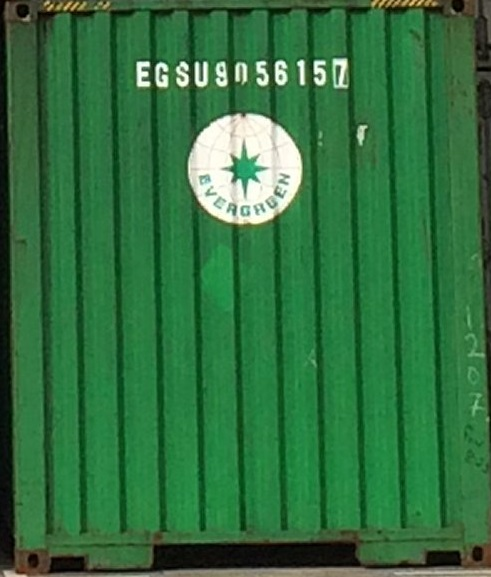container_no_door: (17, 2, 477, 571)
